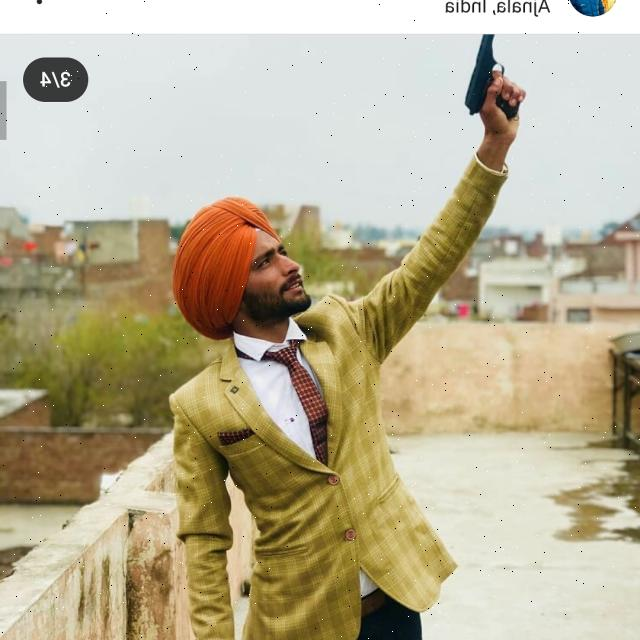gun: (440, 32, 550, 158)
